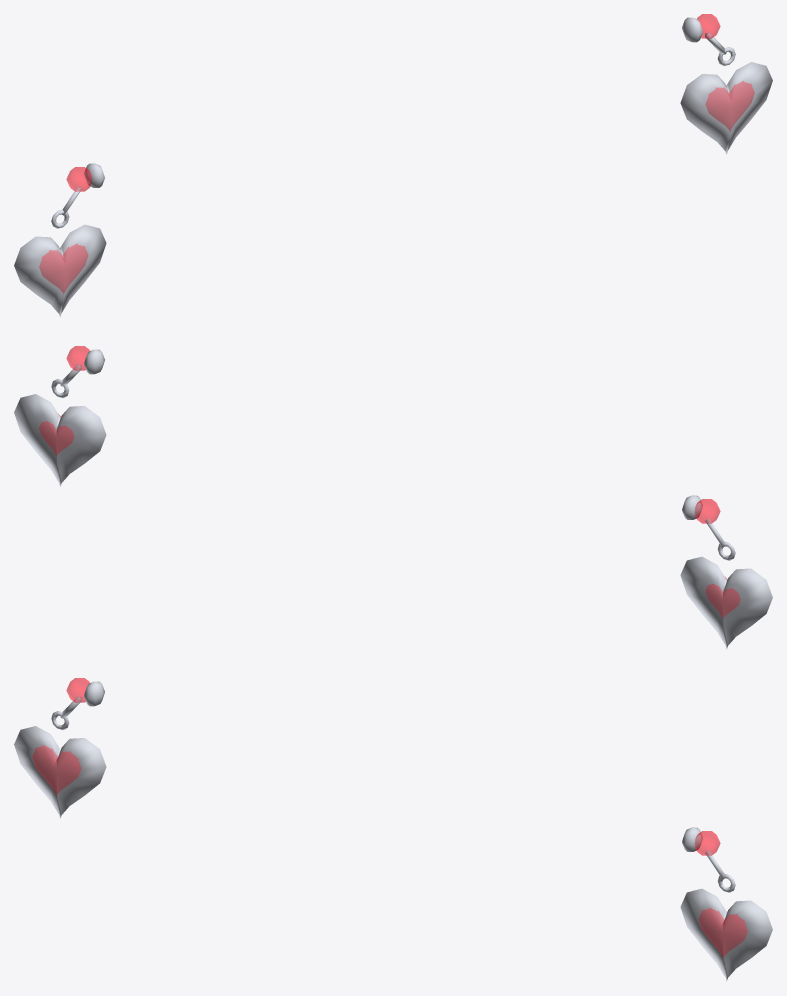
The model's file is crystal_heart_earrings.glb.
3 views of the same model, one above another, from view 1: azimuth 30°, elevation 25°; view 2: azimuth 150°, elevation 25°; view 3: azimuth 330°, elevation 25° (orthographic).
Parts seen in each view (by area): view 1: crystal_heart_earrings; view 2: crystal_heart_earrings; view 3: crystal_heart_earrings.
Part boxes in pixels (x1,y1,x2,y2): crystal_heart_earrings: [14, 14, 772, 317]; crystal_heart_earrings: [14, 346, 772, 649]; crystal_heart_earrings: [14, 678, 772, 981].
Size of the model in its own units: 0.2604 by 0.0479 by 0.0081.
